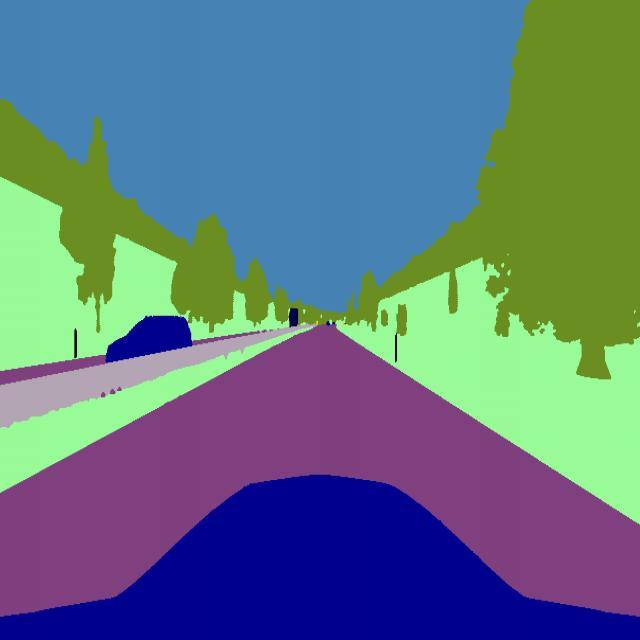safe: (102, 308, 195, 374), (287, 302, 301, 334)
